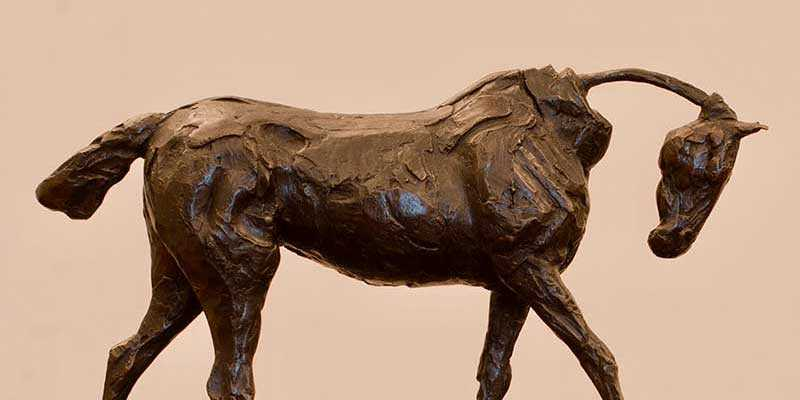Animal: (48, 103, 784, 400)
Horse: (33, 90, 761, 400)
Sculpture: (39, 98, 758, 390)
